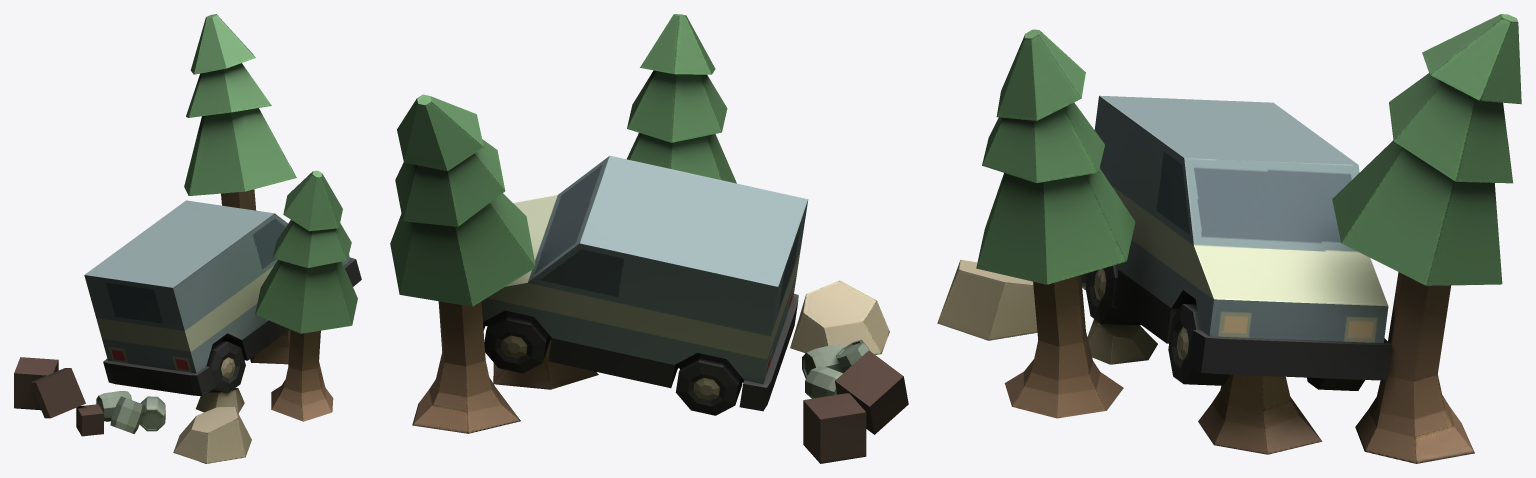
Rendered from waste_2.fbx.
3 renders of one model, left to right at view 1: azimuth 30°, elevation 25°; view 2: azimuth 150°, elevation 25°; view 3: azimuth 270°, elevation 25°, orthographic. The views are drawn at different scales.
Visible parts, largest first — view 1: Wreck; view 2: Wreck; view 3: Wreck.
Part boxes in pixels (x1,y1,x2,y2): Wreck: [14, 14, 361, 463]; Wreck: [390, 14, 908, 463]; Wreck: [937, 14, 1521, 463].
Bounding box in the file's own units: 0.0293 × 0.023 × 0.0288.
